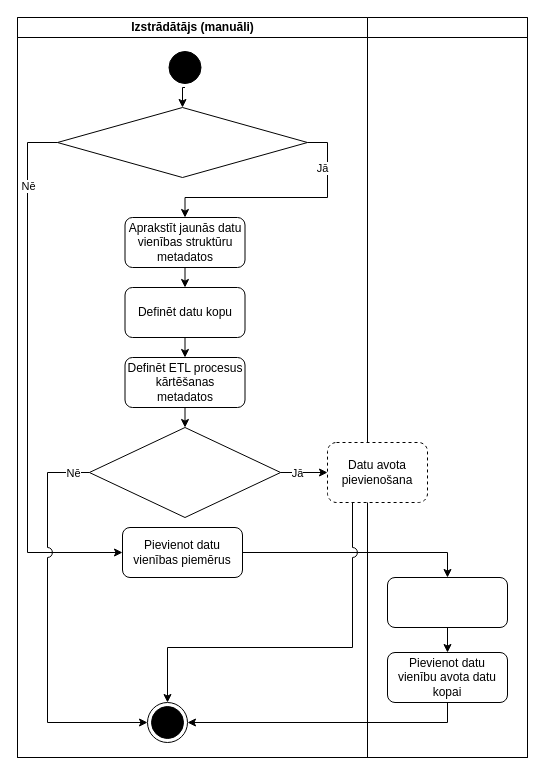
The diagram is 545 pixels wide and 775 high, and some of its shapes have lost their labels. Each missing label, with the box of its shape:
Datu vienība jāpievieno esošai datu kopai kādā datu maģistrāles līmenī: (56, 106, 308, 178)
Iegūt datu vienības struktūru: (386, 576, 508, 628)
Jaunās datu kopas aizpildīšanai nepieciešams jauns datu avots: (88, 426, 281, 518)
Sistēma (automātiski): (366, 16, 528, 758)
